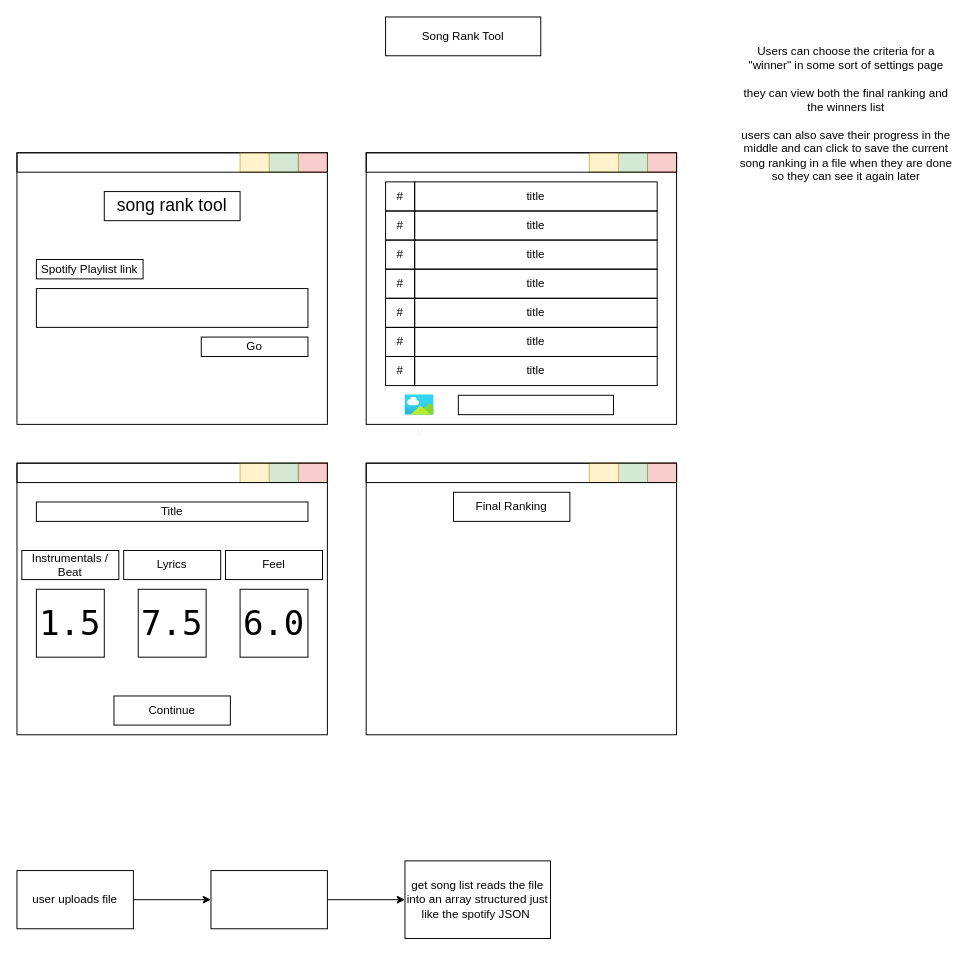
The diagram is 975 pixels wide and 955 high, and some of its shapes have lost their labels. The box of each missing label's shape, as (x1, y1, x2, y2) in pixels:
file path is passed to get song list: (210, 870, 327, 929)
Start / Continue ranking: (457, 394, 614, 415)
